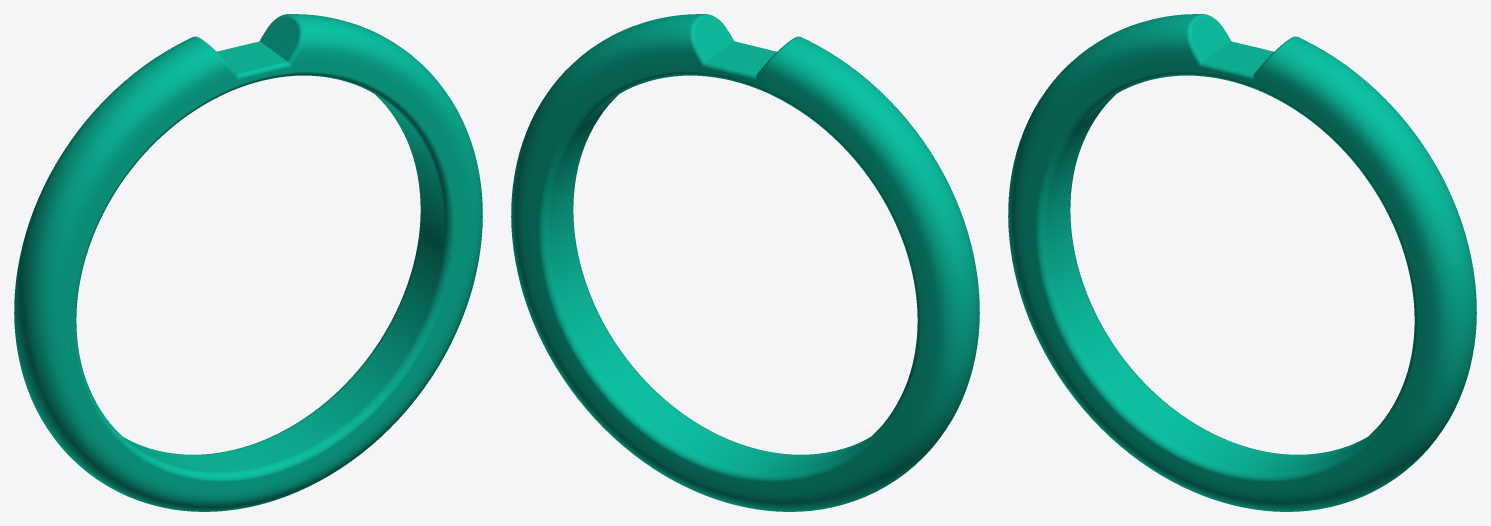
Rendered from traditional-solitaire.glb.
3 views of the same model, side by side, from view 1: azimuth 30°, elevation 25°; view 2: azimuth 150°, elevation 25°; view 3: azimuth 330°, elevation 25° (orthographic).
Parts seen in each view (by area): view 1: /Traditional Solitaire.3dm; view 2: /Traditional Solitaire.3dm; view 3: /Traditional Solitaire.3dm.
Part boxes in pixels (x1=…): /Traditional Solitaire.3dm: x1=14, y1=14, x2=482, y2=511; /Traditional Solitaire.3dm: x1=511, y1=14, x2=979, y2=511; /Traditional Solitaire.3dm: x1=1008, y1=14, x2=1476, y2=511.
Size of the model in its own units: 2.83 by 2.8 by 0.3397.
